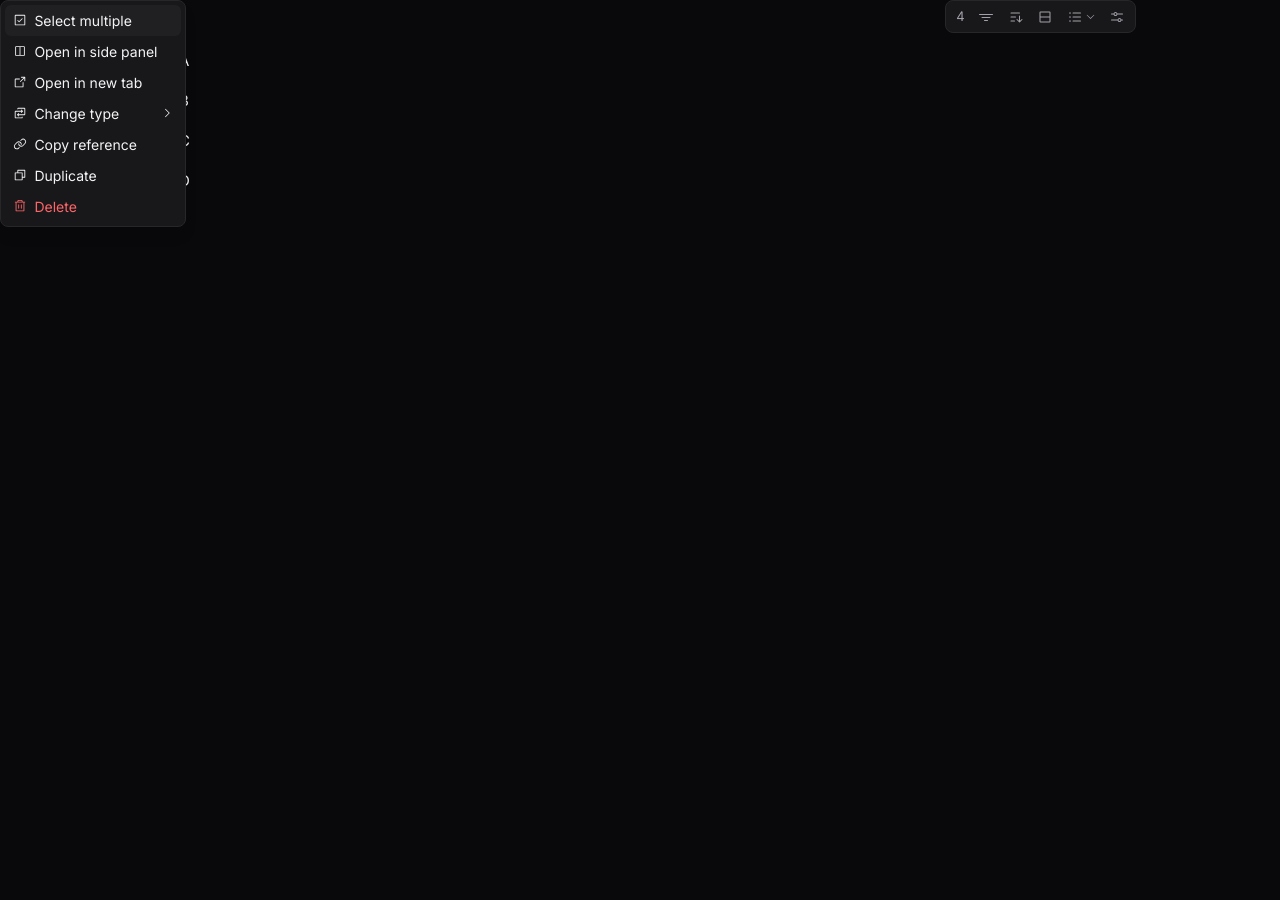
DataView multi-select (Task 18) › test bulk delete of one note says "Delete 1 note"
Click the menu item "Select multiple" at (93, 20), box [5,5,181,36]
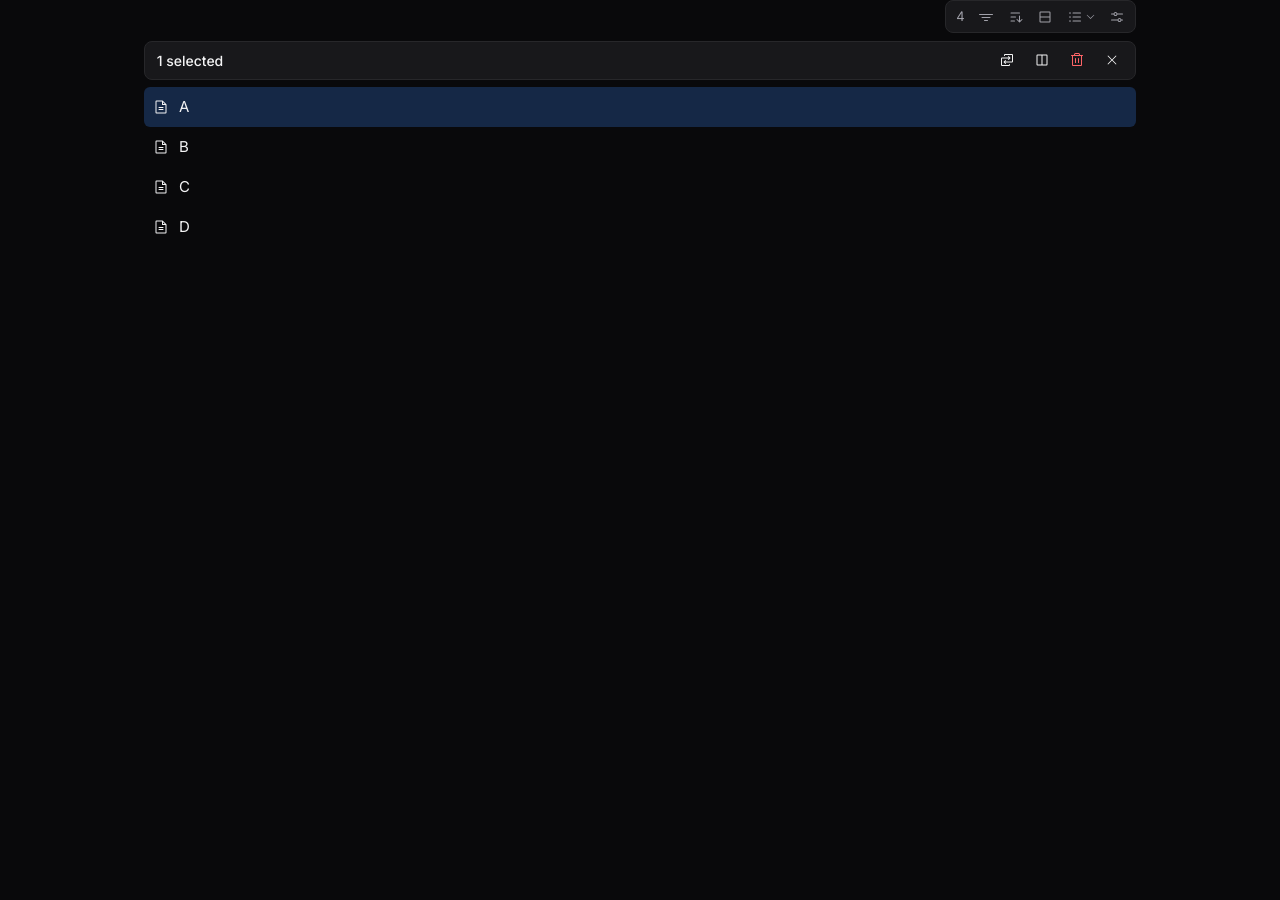
Click the button named "Delete" at (1077, 60), box [1061,45,1092,76]
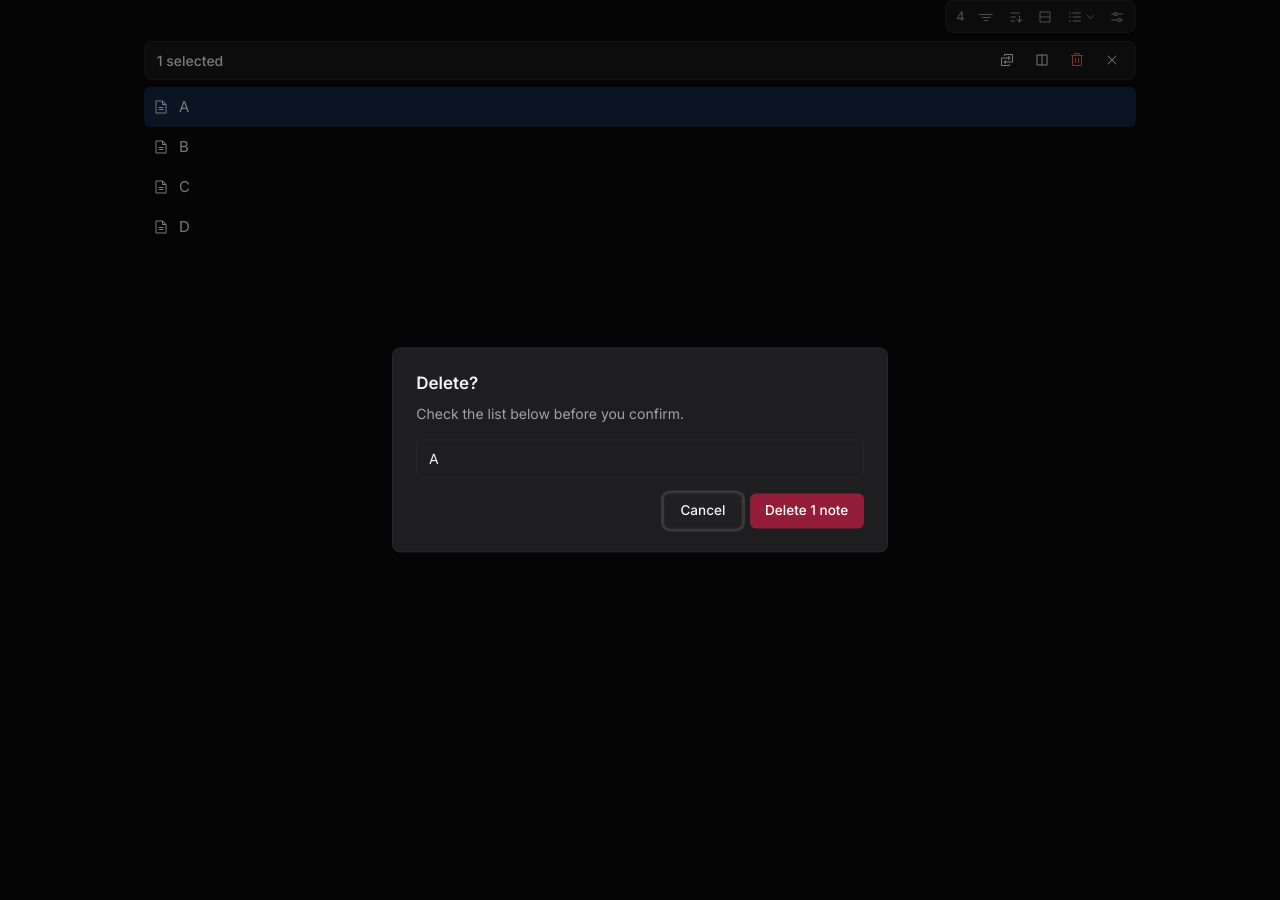
Now the button "Delete 1 note" is shown, box [750,494,864,528]
